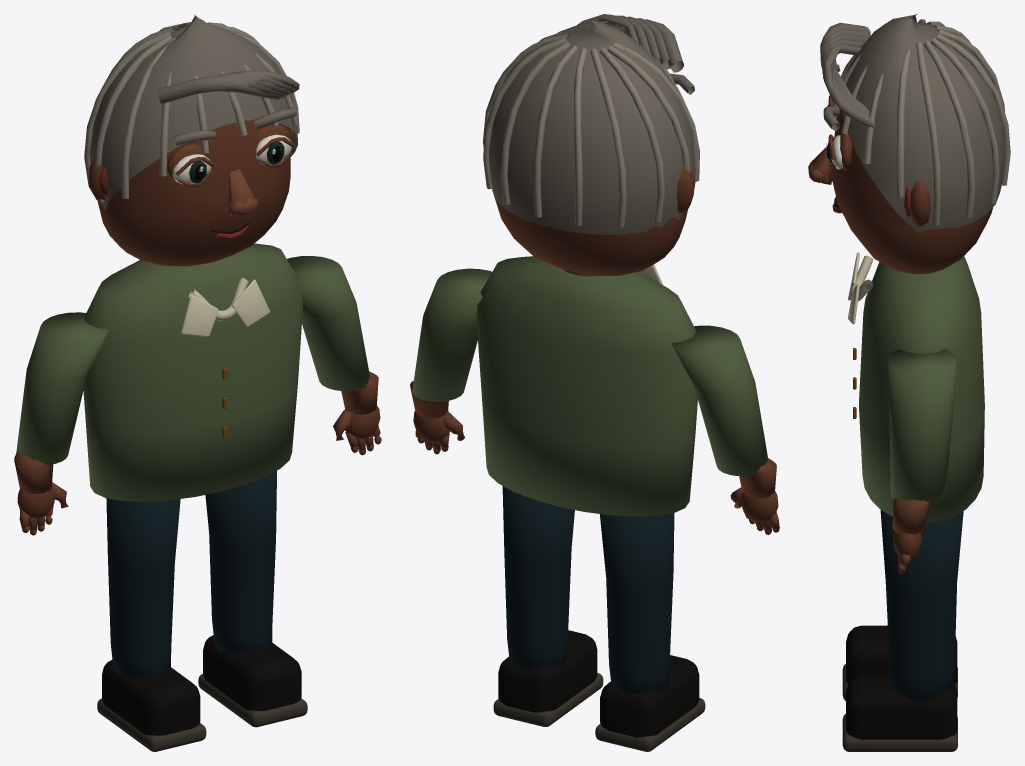
Rendered from patient-47.glb.
3 views of the same model, side by side, from view 1: azimuth 30°, elevation 25°; view 2: azimuth 150°, elevation 25°; view 3: azimuth 270°, elevation 25° (orthographic).
Parts seen in each view (by area): view 1: Body, Head, LegL, LegR, ArmL, ArmR; view 2: Body, Head, LegL, LegR, ArmL, ArmR; view 3: Head, Body, LegR, ArmR, LegL.
Part boxes in pixels (x1,y1,x2,y2): Body: (83,243,302,501); Head: (84,14,299,266); LegL: (97,498,206,751); LegR: (198,471,307,727); ArmL: (14,312,109,535); ArmR: (287,256,381,455); Body: (476,256,697,516); Head: (483,14,699,275); LegL: (595,513,705,751); LegR: (493,486,603,726); ArmL: (671,325,779,534); ArmR: (410,268,491,454); Head: (808,14,1010,274); Body: (848,252,984,522); LegR: (842,510,963,751); ArmR: (887,349,956,573); LegL: (842,625,957,700).
Bounding box in the file's own units: 0.7949 × 1.46 × 0.3834.
